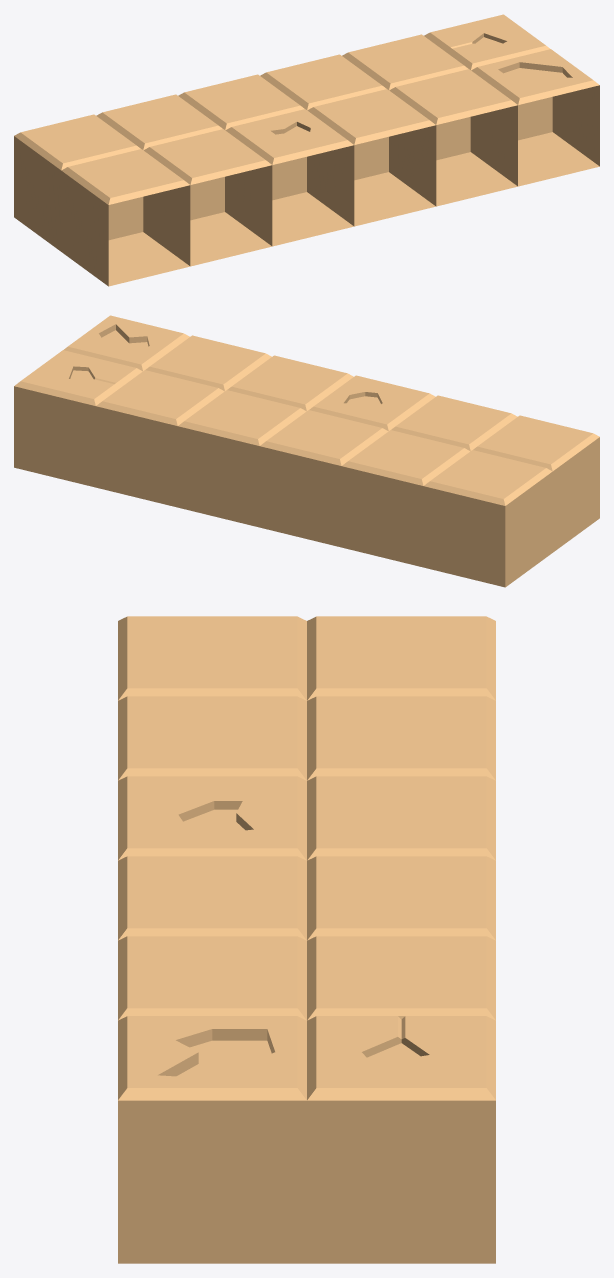
File: 6x2 Floor.fbx
The picture shows the model from 3 angles, top to bottom: view 1: azimuth 30°, elevation 25°; view 2: azimuth 150°, elevation 25°; view 3: azimuth 270°, elevation 25°; orthographic projection. The views are drawn at different scales.
Visible parts, largest first — view 1: Cube; view 2: Cube; view 3: Cube.
Boxes of the visible parts, <box> form: Cube: <box>14,14,599,286</box>; Cube: <box>14,315,599,587</box>; Cube: <box>118,616,495,1263</box>.
Size of the model in its own units: 600 by 100 by 200.
